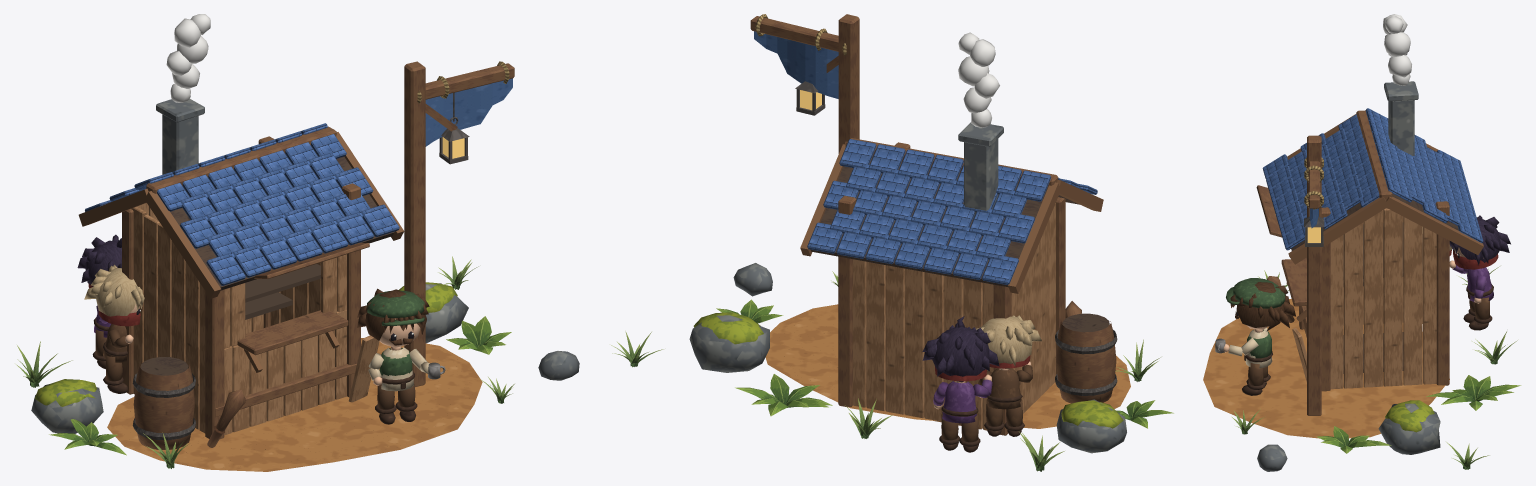
File: ev03_toll.glb
3 views of the same model, side by side, from view 1: azimuth 30°, elevation 25°; view 2: azimuth 150°, elevation 25°; view 3: azimuth 270°, elevation 25° (orthographic). The views are drawn at different scales.
Parts seen in each view (by area): view 1: ev03_toll_booth, ev03_toll_roof, ev03_toll_ground_details, ev03_toll_people, ev03_toll_pole, ev03_toll_props, ev03_toll_plants; view 2: ev03_toll_roof, ev03_toll_booth, ev03_toll_ground_details, ev03_toll_people, ev03_toll_pole, ev03_toll_props, ev03_toll_plants; view 3: ev03_toll_booth, ev03_toll_roof, ev03_toll_ground_details, ev03_toll_people, ev03_toll_pole, ev03_toll_plants, ev03_toll_props.
Boxes of the visible parts, x1=… form: ev03_toll_booth: x1=122, y1=136, x2=369, y2=438; ev03_toll_roof: x1=78, y1=14, x2=404, y2=298; ev03_toll_ground_details: x1=31, y1=282, x2=579, y2=471; ev03_toll_people: x1=77, y1=234, x2=445, y2=424; ev03_toll_pole: x1=404, y1=61, x2=514, y2=386; ev03_toll_props: x1=132, y1=335, x2=379, y2=449; ev03_toll_plants: x1=16, y1=256, x2=514, y2=468; ev03_toll_roof: x1=800, y1=32, x2=1103, y2=293; ev03_toll_booth: x1=838, y1=142, x2=1065, y2=435; ev03_toll_ground_details: x1=689, y1=263, x2=1130, y2=453; ev03_toll_people: x1=922, y1=315, x2=1041, y2=452; ev03_toll_pole: x1=750, y1=14, x2=859, y2=153; ev03_toll_props: x1=1055, y1=301, x2=1117, y2=403; ev03_toll_plants: x1=611, y1=271, x2=1173, y2=471; ev03_toll_booth: x1=1256, y1=185, x2=1449, y2=391; ev03_toll_roof: x1=1262, y1=14, x2=1483, y2=264; ev03_toll_ground_details: x1=1203, y1=298, x2=1449, y2=471; ev03_toll_people: x1=1215, y1=215, x2=1510, y2=395; ev03_toll_pole: x1=1304, y1=135, x2=1324, y2=415; ev03_toll_plants: x1=1232, y1=266, x2=1521, y2=469; ev03_toll_props: x1=1267, y1=276, x2=1306, y2=381.
Size of what is drawn, in the model's own units: 5.3 by 4.03 by 3.45.
Materials: 28 (28 with a texture image).
